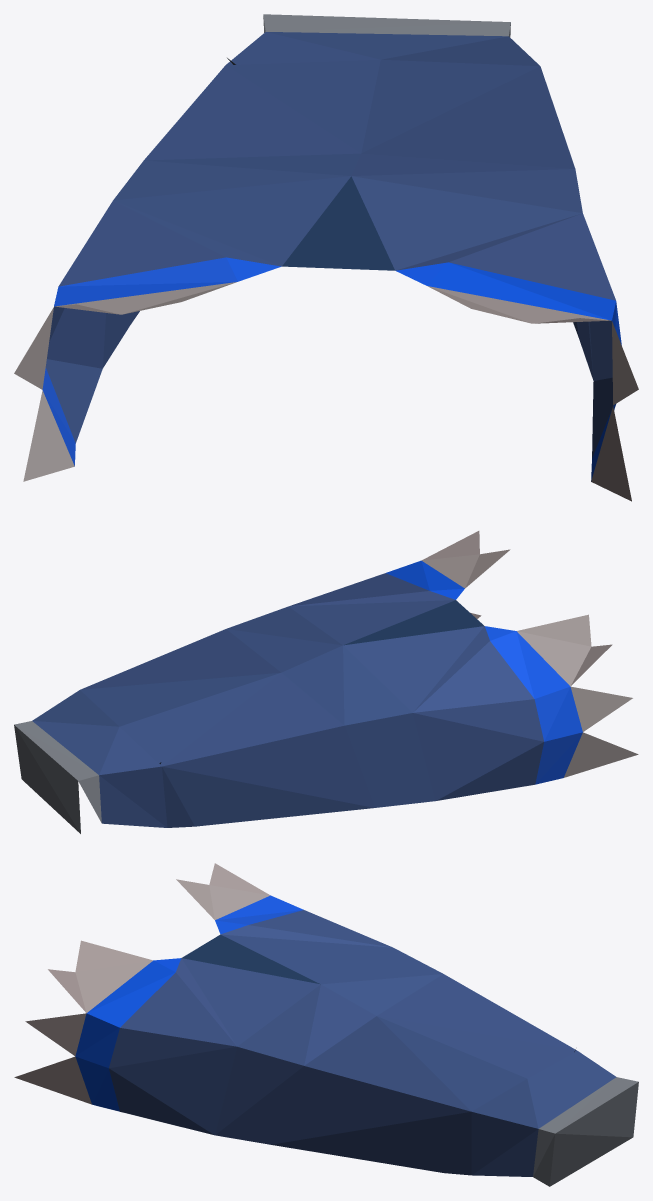
File: mystic-robe-bottom.obj
The picture shows the model from 3 angles, top to bottom: view 1: azimuth 30°, elevation 25°; view 2: azimuth 150°, elevation 25°; view 3: azimuth 270°, elevation 25°; orthographic projection. The views are drawn at different scales.
Visible parts, largest first — view 1: Item Mystic robe bottom 2026-09-24_18-00-39; view 2: Item Mystic robe bottom 2026-09-24_18-00-39; view 3: Item Mystic robe bottom 2026-09-24_18-00-39.
Boxes of the visible parts, left/top/right/bottom form: Item Mystic robe bottom 2026-09-24_18-00-39: left=14, top=14, right=638, bottom=501; Item Mystic robe bottom 2026-09-24_18-00-39: left=14, top=531, right=638, bottom=833; Item Mystic robe bottom 2026-09-24_18-00-39: left=14, top=863, right=638, bottom=1186.
Bounding box in the file's own units: 95 × 25 × 112.
